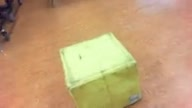cube: (59, 32, 142, 108)
